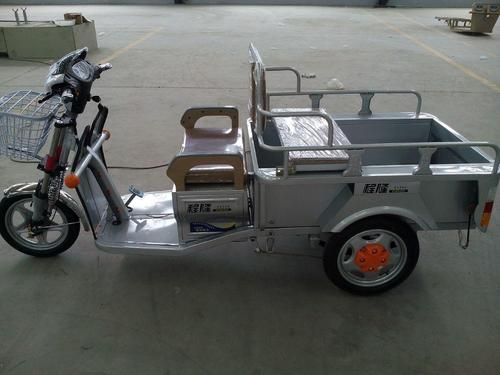empty: (1, 44, 497, 300)
